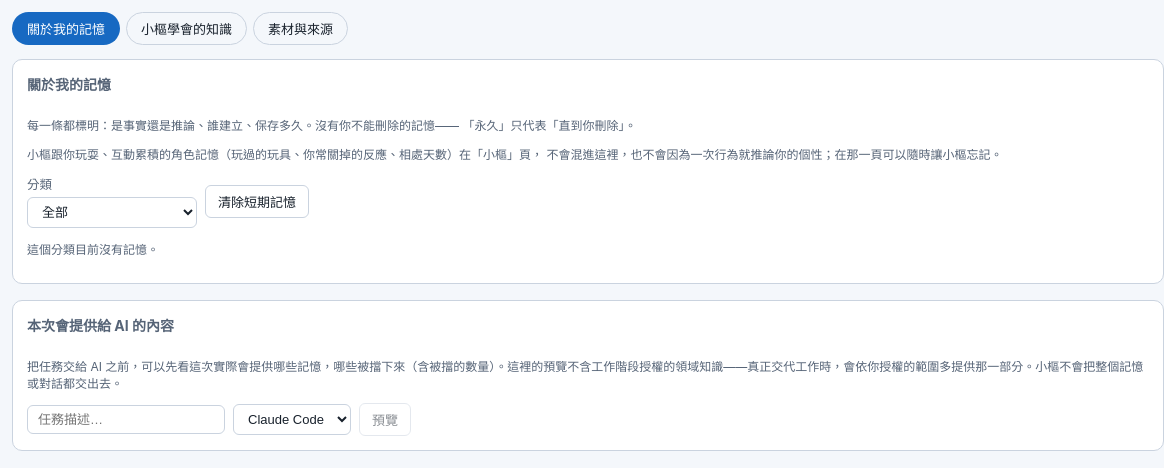
Scenario: memory-ui-003：貼上的文字素材，卡片標題不得是 sha256 前 12 碼 › description 有帶時，標題用 description 而不是 hash
The image size is (1164, 468).
Click the tab "素材與來源". click: (300, 28)
box: [253, 12, 348, 45]
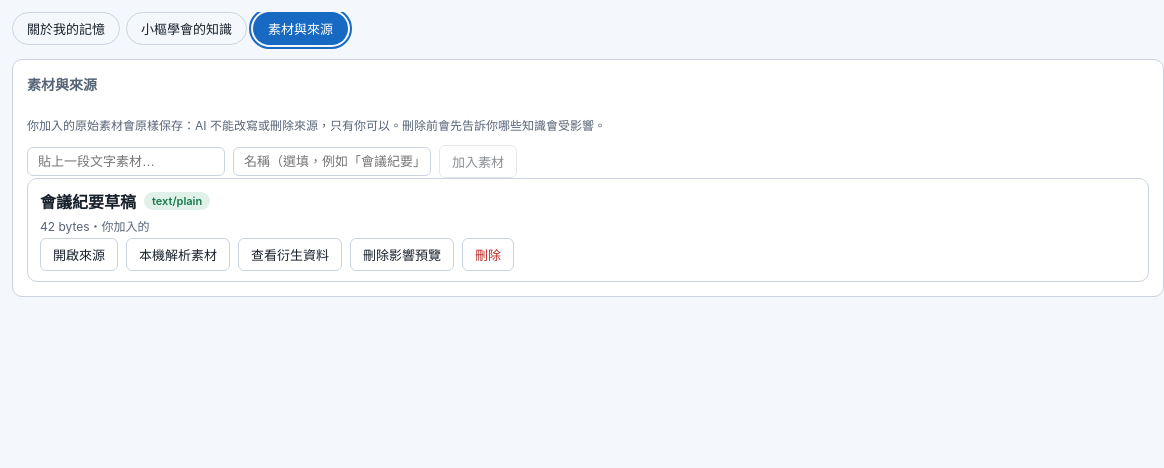
Expected: the text "會議紀要草稿" is shown, [40, 189, 136, 213]
